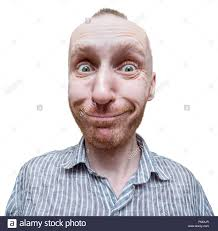white_male: (69, 40, 149, 142)
